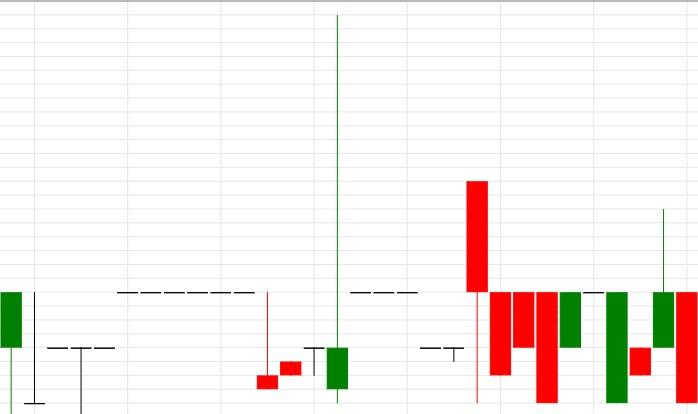inverse_hammer_rise: (117, 291, 279, 391)
